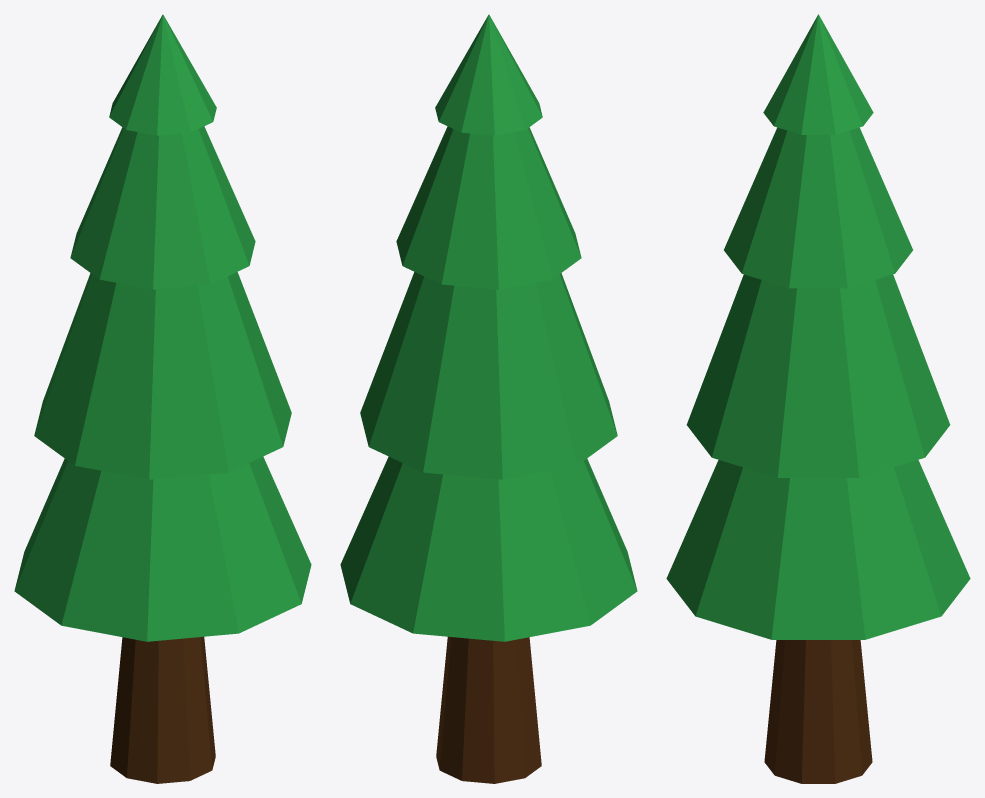
File: Tall_Pine.fbx
3 renders of one model, left to right at view 1: azimuth 30°, elevation 25°; view 2: azimuth 150°, elevation 25°; view 3: azimuth 270°, elevation 25°, orthographic.
Parts seen in each view (by area): view 1: Tall Pine; view 2: Tall Pine; view 3: Tall Pine.
Part boxes in pixels (left/top/right/bottom): Tall Pine: left=14, top=14, right=311, bottom=783; Tall Pine: left=340, top=14, right=637, bottom=783; Tall Pine: left=666, top=14, right=970, bottom=783.
Bounding box in the file's own units: 165 × 471 × 173.
